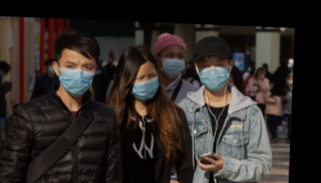with_mask: (55, 58, 96, 97), (199, 55, 230, 91), (129, 68, 160, 102), (158, 49, 186, 78)
